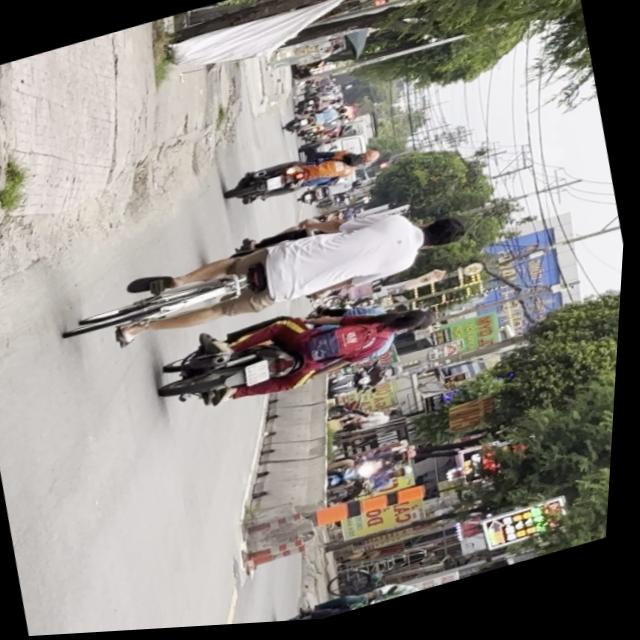licenseplate: (153, 276, 450, 431)
motorcyclist: (394, 310, 442, 344)
nohelmet: (246, 363, 276, 390)
